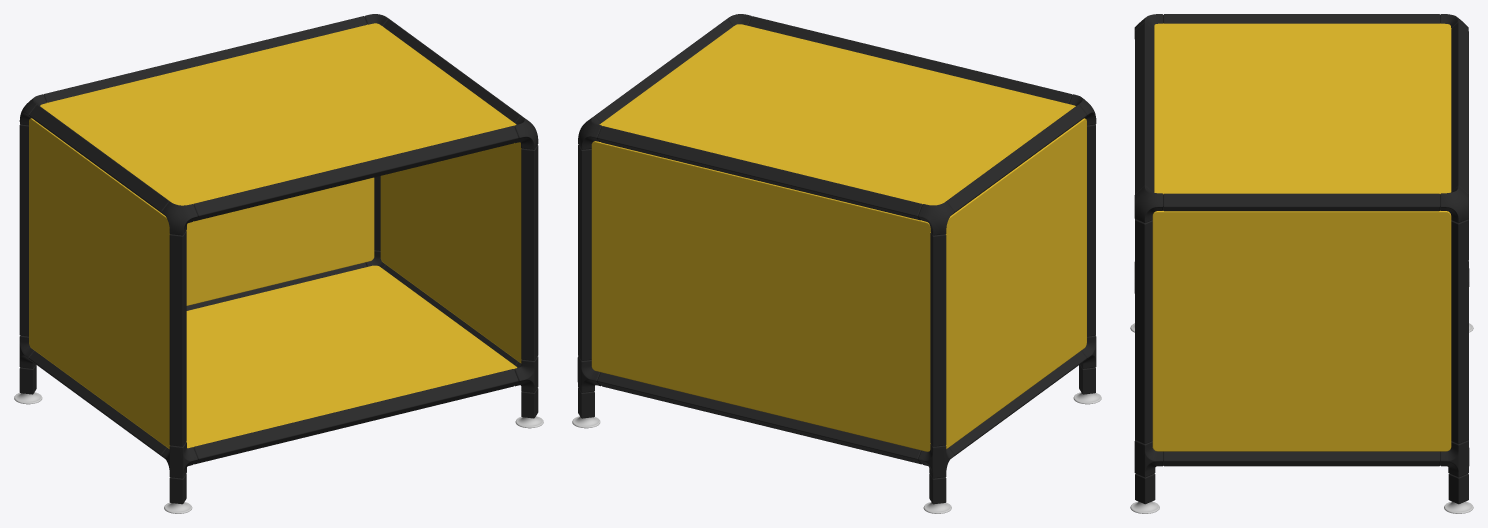
3 renders of one model, left to right at view 1: azimuth 30°, elevation 25°; view 2: azimuth 150°, elevation 25°; view 3: azimuth 270°, elevation 25°, orthographic. The views are drawn at different scales.
Visible parts, largest first — view 1: 523x374x329; view 2: 523x374x329; view 3: 523x374x329.
Boxes of the visible parts, x1,y1,x2,y2 form: 523x374x329: (14,14,543,513); 523x374x329: (572,14,1101,513); 523x374x329: (1130,14,1473,513).
Bounding box in the file's own units: 0.6129 × 0.4683 × 0.4632.
